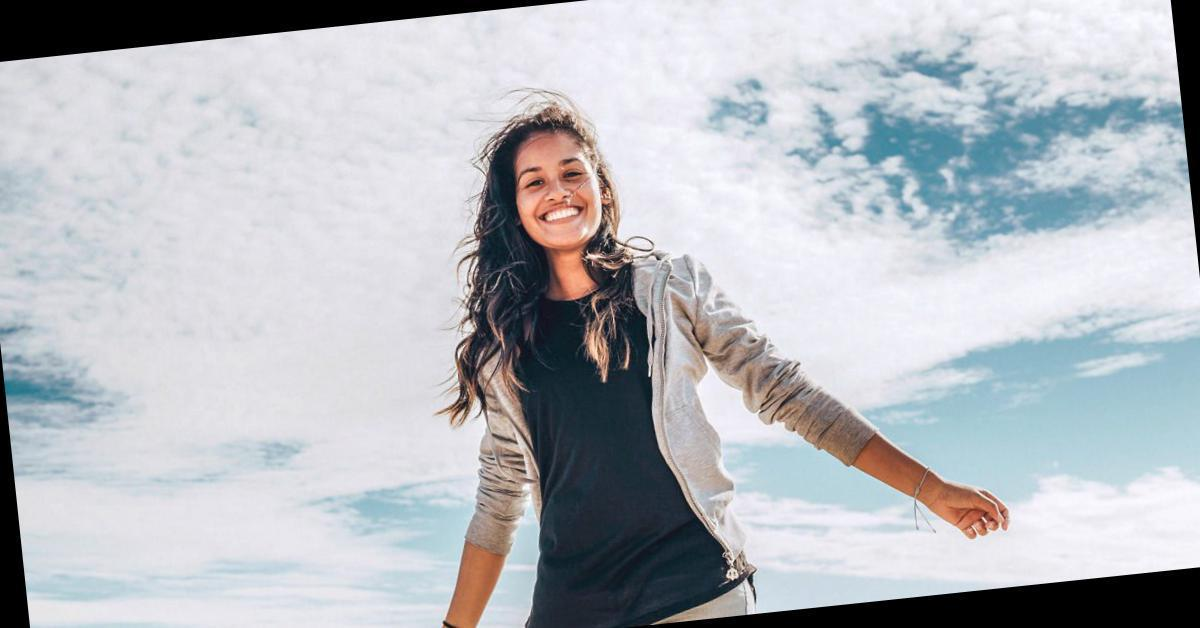Sober: (519, 136, 601, 242)
